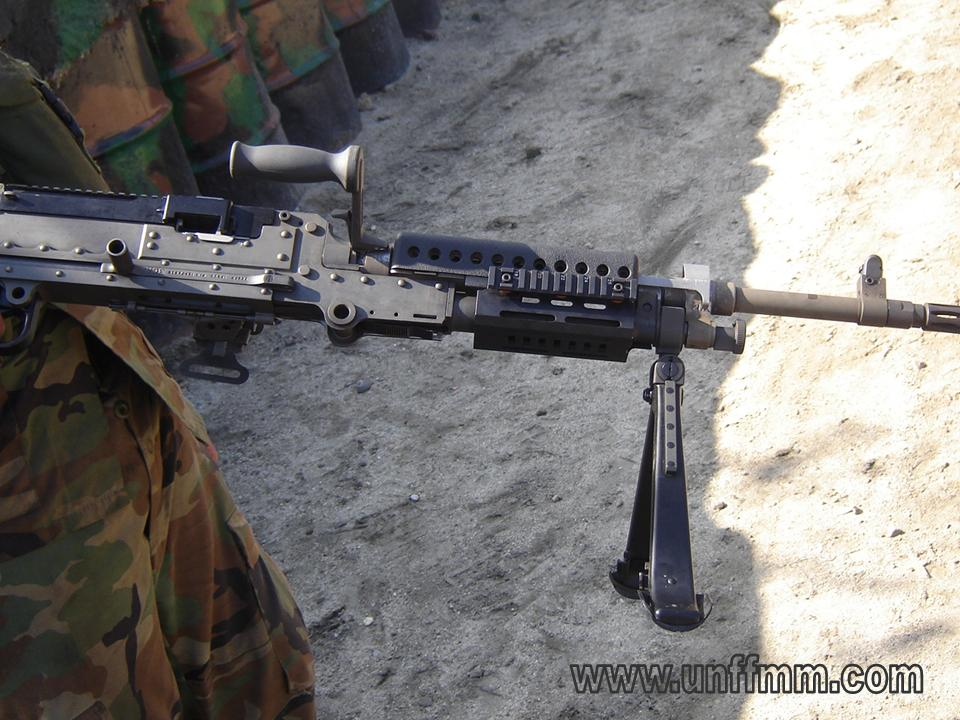rifle: (10, 172, 951, 603)
